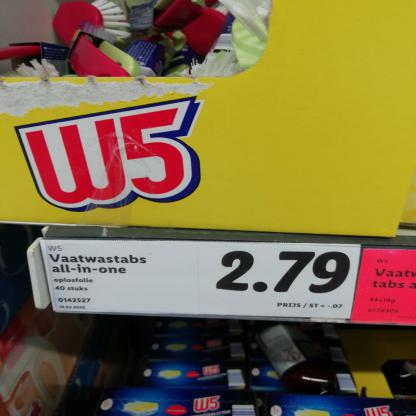prtg: (41, 241, 362, 320), (351, 249, 416, 325)
